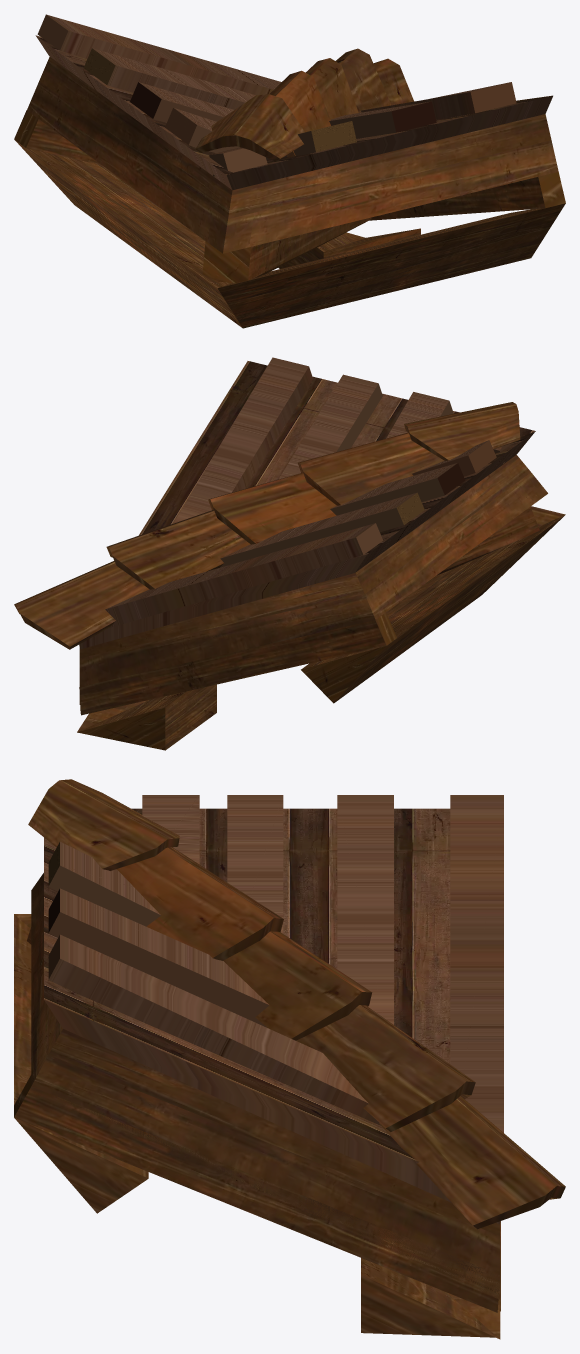
3 renders of one model, top to bottom at view 1: azimuth 30°, elevation 25°; view 2: azimuth 150°, elevation 25°; view 3: azimuth 270°, elevation 25°, orthographic. The views are drawn at different scales.
Parts seen in each view (by area): view 1: SM_BB_T2_Roof_Med_Valley_Shallow_LOD0; view 2: SM_BB_T2_Roof_Med_Valley_Shallow_LOD0; view 3: SM_BB_T2_Roof_Med_Valley_Shallow_LOD0.
Boxes of the visible parts, x1,y1,x2,y2 form: SM_BB_T2_Roof_Med_Valley_Shallow_LOD0: [14, 14, 565, 328]; SM_BB_T2_Roof_Med_Valley_Shallow_LOD0: [14, 357, 565, 750]; SM_BB_T2_Roof_Med_Valley_Shallow_LOD0: [14, 779, 565, 1339].
Size of the model in its own units: 1.91 by 1.42 by 1.89.
Materials: 2 (2 with a texture image).
